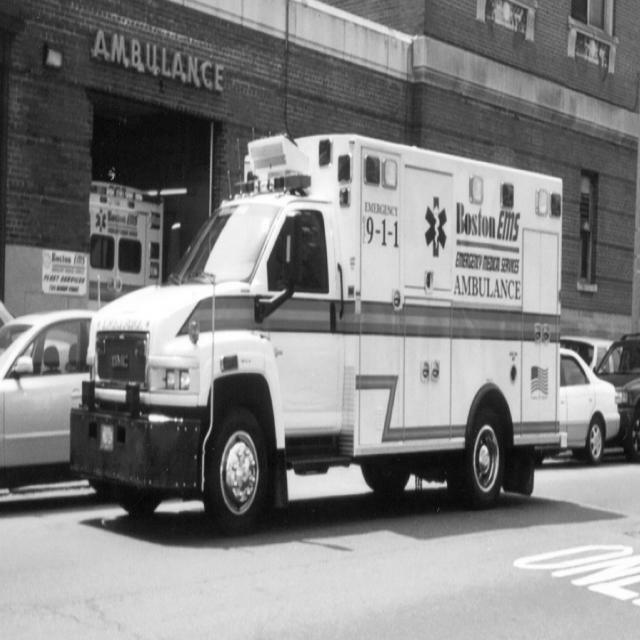Ambulance: (67, 134, 566, 537)
